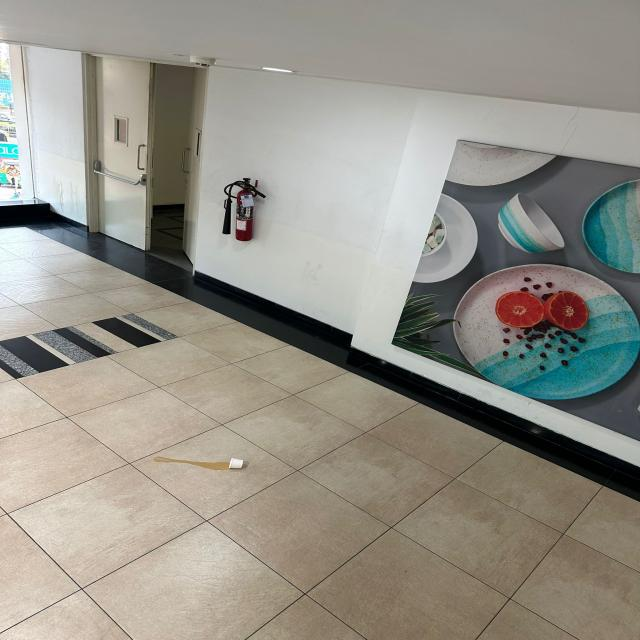cup: (230, 458, 244, 470)
spill: (150, 456, 230, 470)
